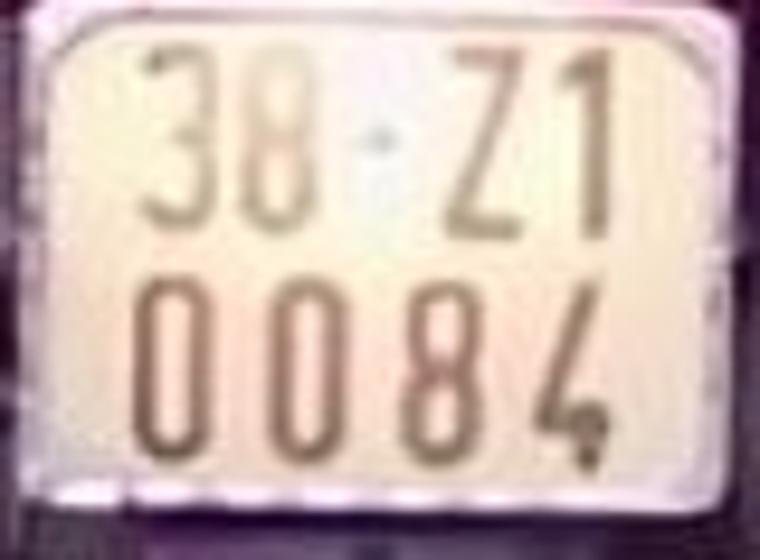-: (367, 127, 399, 149)
0: (266, 279, 343, 459), (130, 282, 209, 457)
1: (558, 49, 613, 241)
3: (146, 46, 219, 230)
4: (534, 283, 611, 474)
8: (403, 283, 481, 460), (242, 44, 317, 228)
Z: (449, 45, 523, 238)
